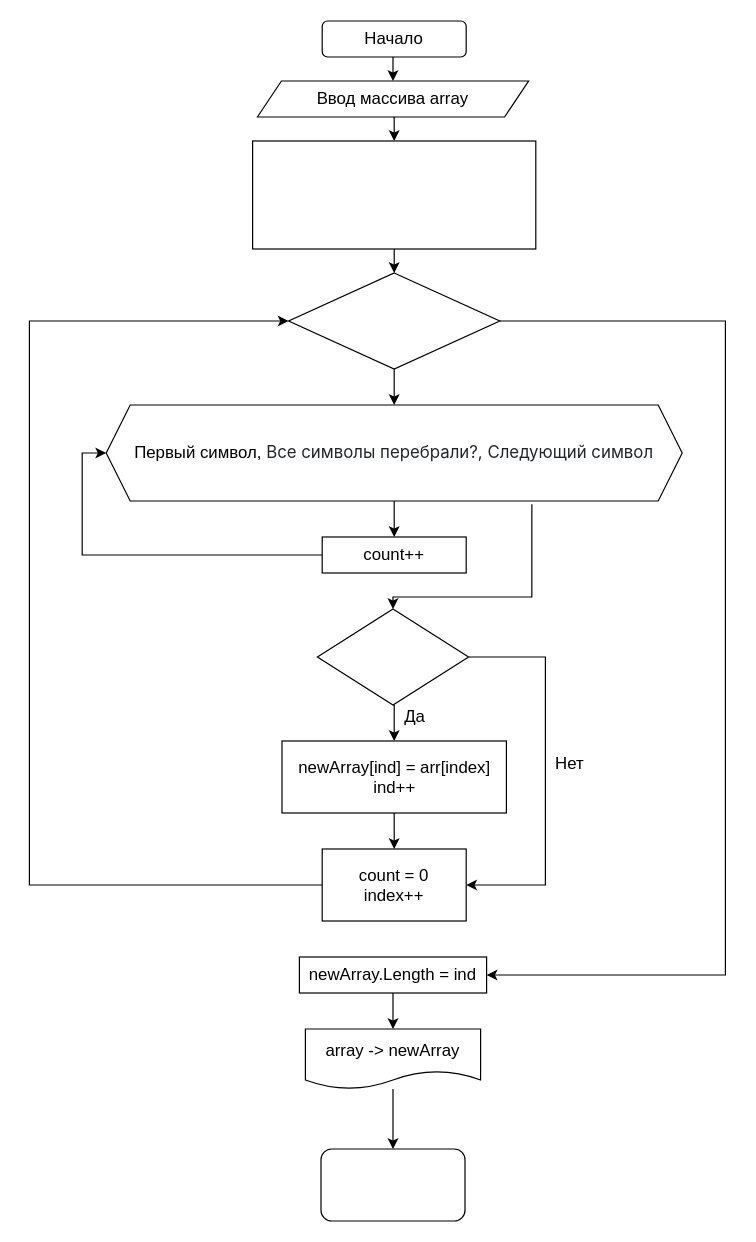
Image size: 756x1242. Some labels were removed from this diagram. Here are the shapes that lost their labels. From the top down, the centre of each, then its label:
(x=393, y=194): Создаем новый массив newArray index = 0 count = 0 ind = 0
(x=393, y=320): index < array.Length
(x=392, y=656): count <= 3
(x=392, y=1184): Конец
